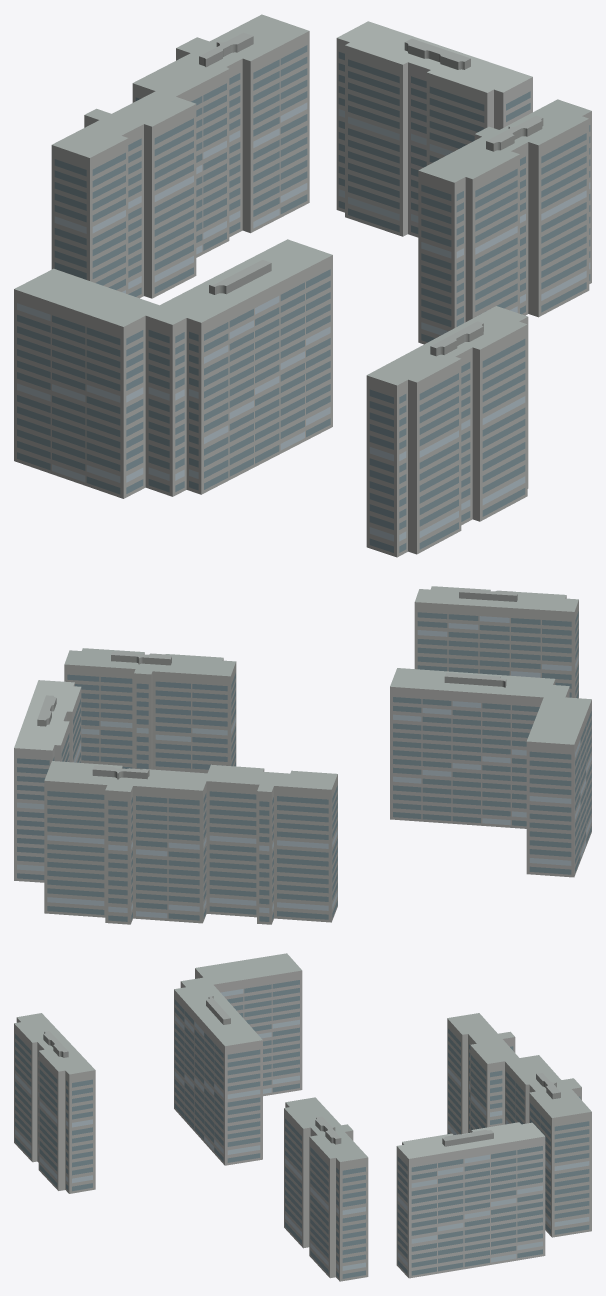
The model's file is apt-a13905302.glb.
The picture shows the model from 3 angles, top to bottom: view 1: azimuth 30°, elevation 25°; view 2: azimuth 150°, elevation 25°; view 3: azimuth 270°, elevation 25°; orthographic projection. The views are drawn at different scales.
Parts seen in each view (by area): view 1: apt-a13905302; view 2: apt-a13905302; view 3: apt-a13905302.
Boxes of the visible parts, box(x1,y1,x2,y2) form: apt-a13905302: box(14, 14, 591, 557); apt-a13905302: box(14, 586, 591, 924); apt-a13905302: box(14, 953, 591, 1281).
Size of the model in its own units: 147 by 41 by 172.
